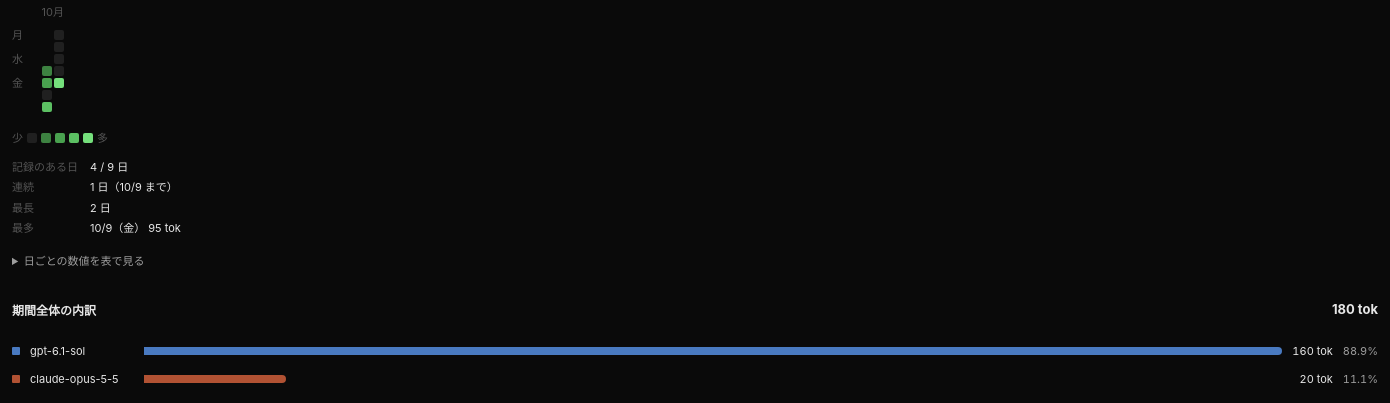
Test case: daily usage grid interactions › shows the empty-day message even though the period has other records
This screenshot has width=1390, height=403.
What coordinates should you click on to do the following:
click the button named "10/3（土） · 0 tok · 記録なし"
I would click on:
 (47, 95)
Its box is x1=42 y1=90 x2=52 y2=100.
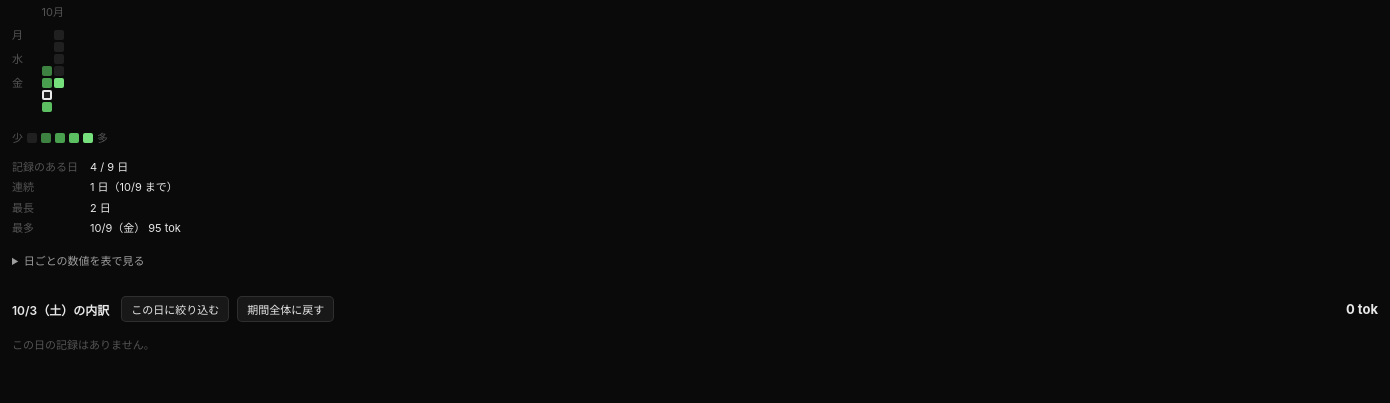
expect the element showing "10/3（土）の内訳 この日に絞り込む 期間全体に戻す 0 tok この日の記録はありません。" is shown: met, box x1=12 y1=296 x2=1378 y2=352
